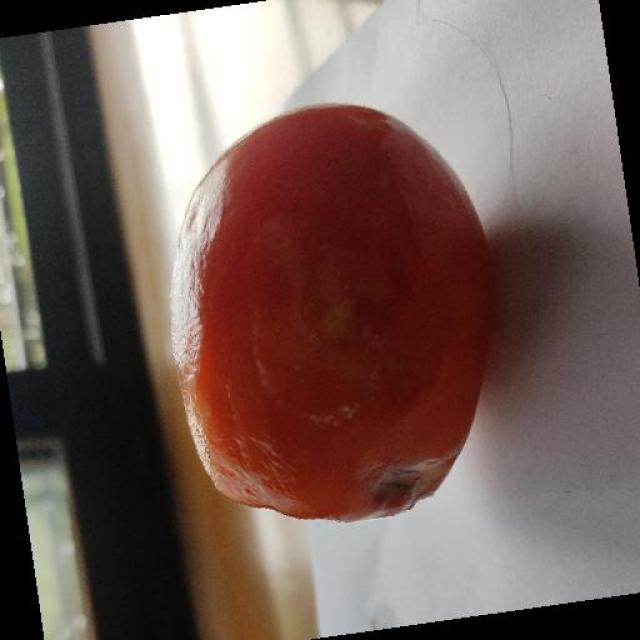Stale_tomato: (172, 140, 466, 520)
